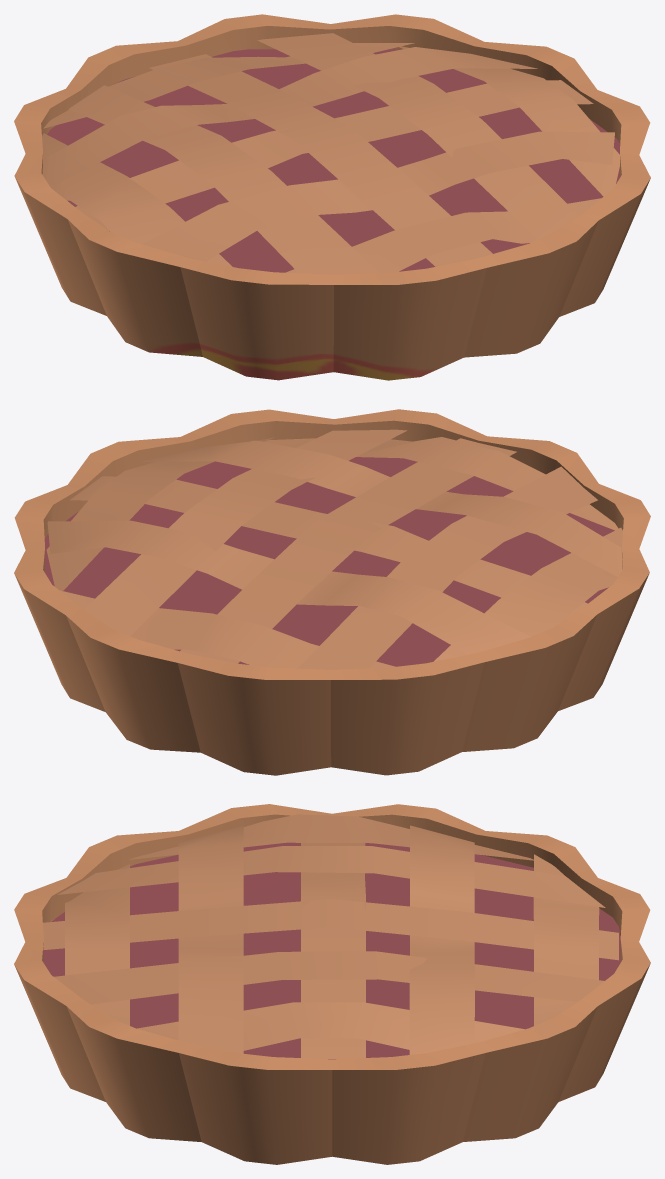
Rendered from SM_Apple_Pie.fbx.
3 views of the same model, one above another, from view 1: azimuth 30°, elevation 25°; view 2: azimuth 150°, elevation 25°; view 3: azimuth 270°, elevation 25° (orthographic).
Parts seen in each view (by area): view 1: Cylinder.017, Cylinder.018, Plane.053, Plane.060, Plane.058, Plane.052, Plane.059, Plane.051, Plane.056, Plane.054, Plane.057, Plane.055; view 2: Cylinder.017, Cylinder.018, Plane.052, Plane.060, Plane.058, Plane.059, Plane.053, Plane.055, Plane.051, Plane.056, Plane.054, Plane.057; view 3: Cylinder.017, Cylinder.018, Plane.060, Plane.053, Plane.052, Plane.058, Plane.059, Plane.057, Plane.051, Plane.055, Plane.054, Plane.056.
Boxes of the visible parts, x1=… form: Cylinder.017: x1=14, y1=14, x2=650, y2=380; Cylinder.018: x1=47, y1=49, x2=620, y2=272; Plane.053: x1=142, y1=131, x2=614, y2=261; Plane.060: x1=149, y1=54, x2=492, y2=266; Plane.058: x1=257, y1=33, x2=579, y2=239; Plane.052: x1=46, y1=47, x2=537, y2=186; Plane.059: x1=68, y1=85, x2=378, y2=274; Plane.051: x1=75, y1=80, x2=593, y2=230; Plane.056: x1=42, y1=133, x2=232, y2=266; Plane.054: x1=286, y1=198, x2=601, y2=273; Plane.057: x1=394, y1=45, x2=619, y2=196; Plane.055: x1=43, y1=43, x2=414, y2=128; Cylinder.017: x1=14, y1=409, x2=650, y2=775; Cylinder.018: x1=44, y1=457, x2=614, y2=666; Plane.052: x1=47, y1=520, x2=530, y2=654; Plane.060: x1=180, y1=438, x2=516, y2=663; Plane.058: x1=84, y1=429, x2=407, y2=635; Plane.059: x1=298, y1=466, x2=597, y2=669; Plane.053: x1=140, y1=440, x2=622, y2=576; Plane.055: x1=60, y1=590, x2=395, y2=668; Plane.051: x1=70, y1=476, x2=587, y2=618; Plane.056: x1=434, y1=527, x2=622, y2=661; Plane.054: x1=251, y1=437, x2=618, y2=530; Plane.057: x1=46, y1=437, x2=274, y2=591; Cylinder.017: x1=14, y1=804, x2=650, y2=1164; Cylinder.018: x1=43, y1=842, x2=620, y2=1059; Plane.060: x1=43, y1=899, x2=618, y2=960; Plane.053: x1=178, y1=826, x2=243, y2=1053; Plane.052: x1=409, y1=825, x2=474, y2=1054; Plane.058: x1=54, y1=951, x2=604, y2=1004; Plane.059: x1=57, y1=846, x2=605, y2=907; Plane.057: x1=137, y1=1002, x2=524, y2=1050; Plane.051: x1=301, y1=842, x2=365, y2=1058; Plane.055: x1=533, y1=854, x2=599, y2=1025; Plane.054: x1=65, y1=864, x2=129, y2=1025; Plane.056: x1=129, y1=814, x2=533, y2=860.
Bounding box in the file's own units: 45.72 × 10.92 × 46.27.
